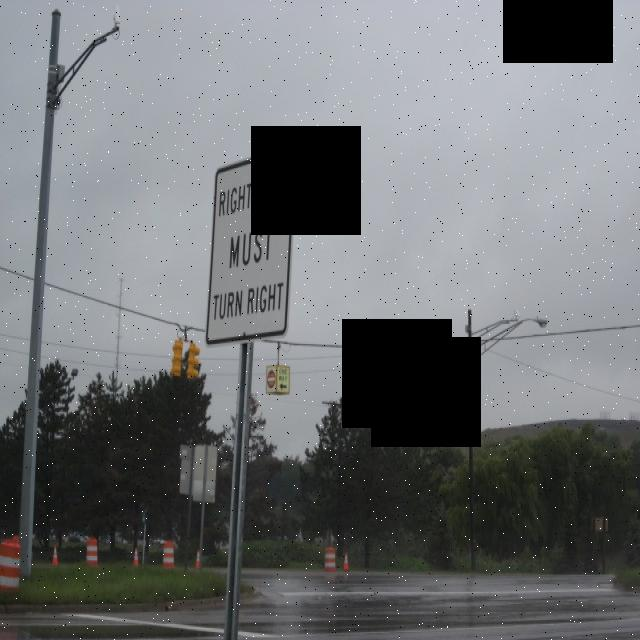regulatory: (201, 140, 297, 346)
